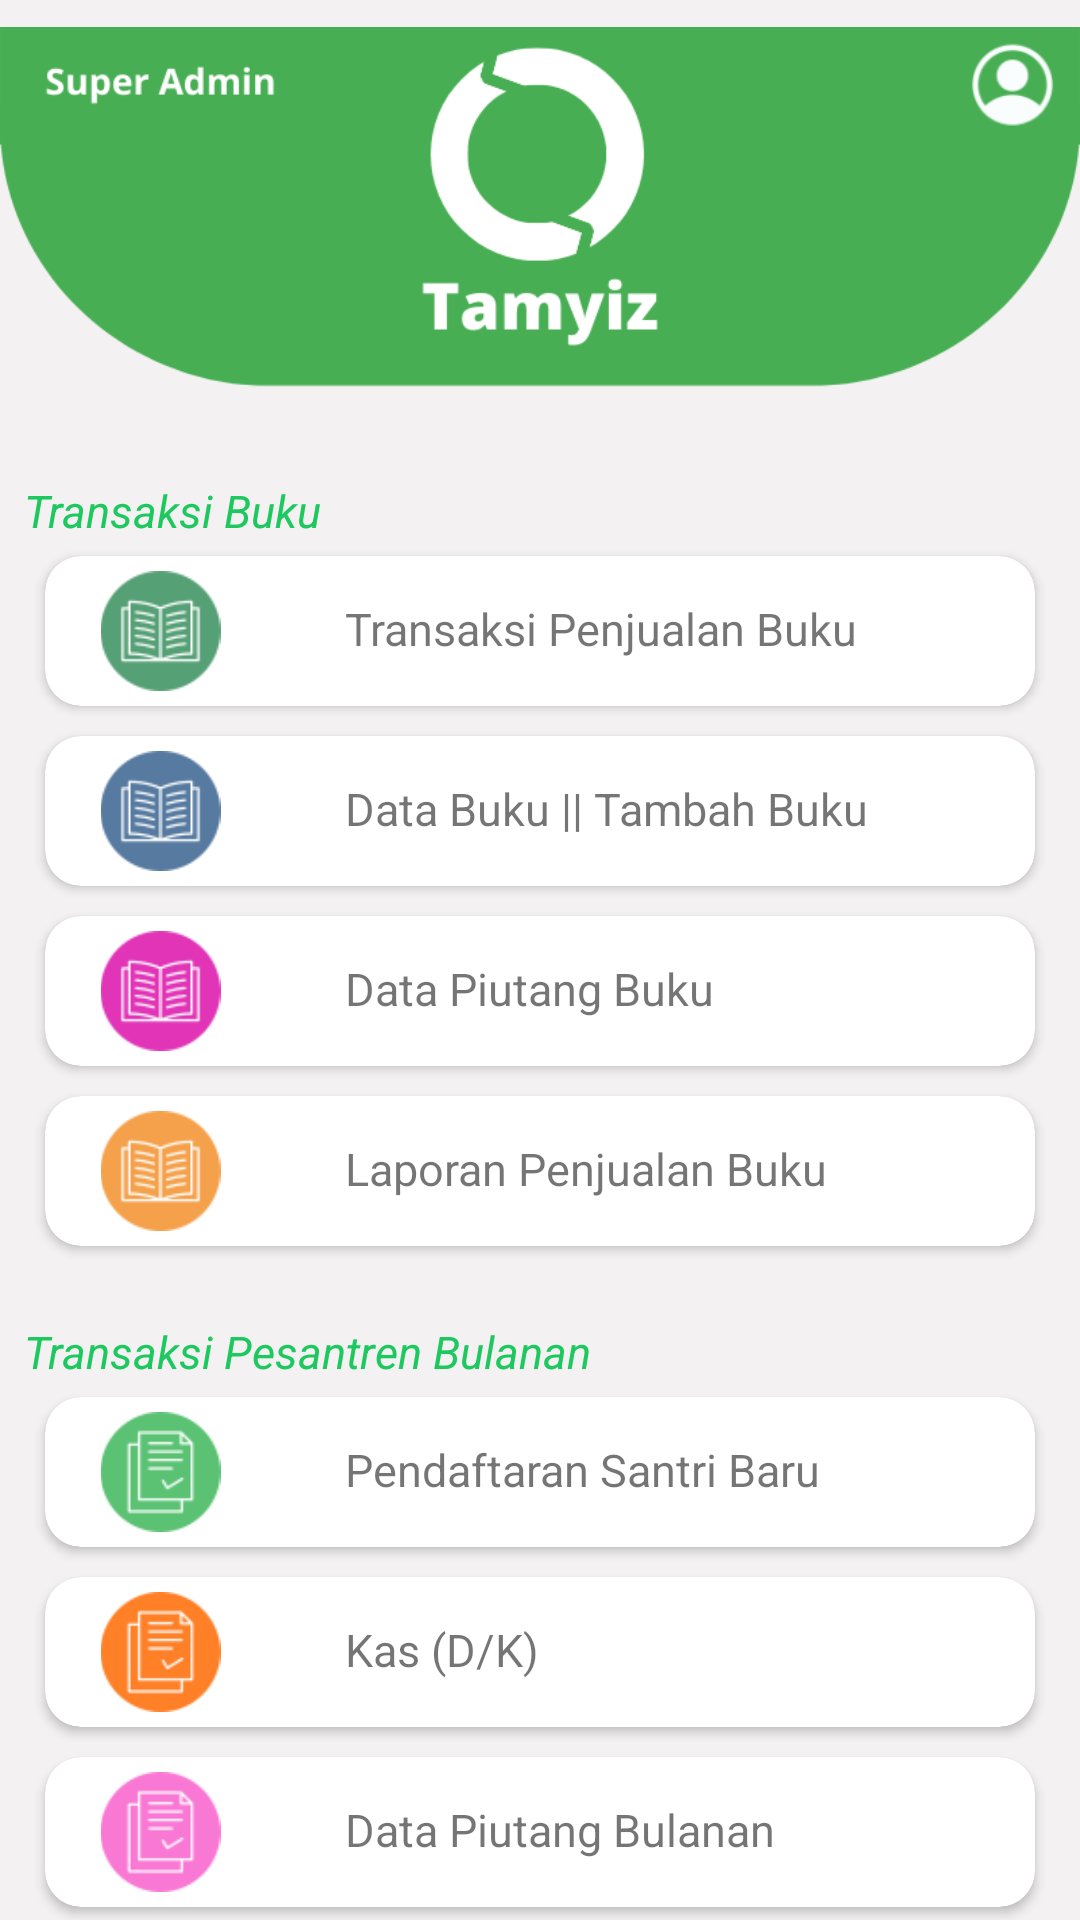

Locate icon controls on the screen. Image size 1080×1920, boxes as box=[x1, y1, x2, y2].
book: box=[101, 571, 221, 691], box=[101, 751, 221, 871], box=[101, 931, 221, 1051], box=[101, 1111, 221, 1231]
evaluation: box=[101, 1412, 221, 1532], box=[101, 1592, 221, 1712], box=[101, 1772, 221, 1892]
